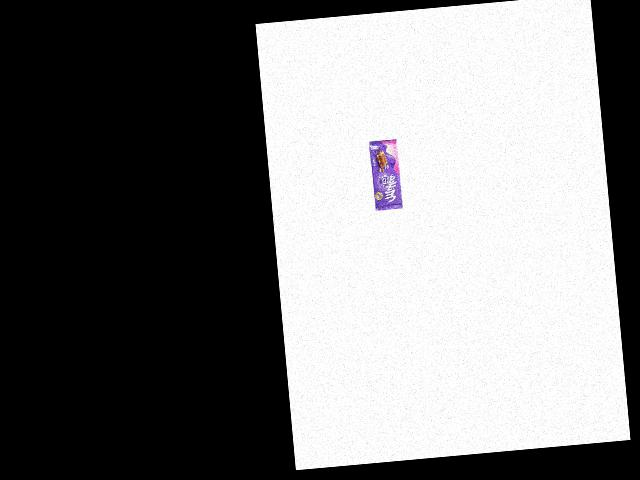chocolate: (367, 139, 403, 211)
